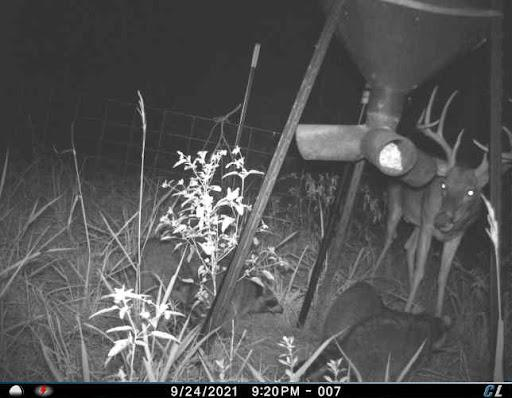Deer: (373, 81, 512, 334)
